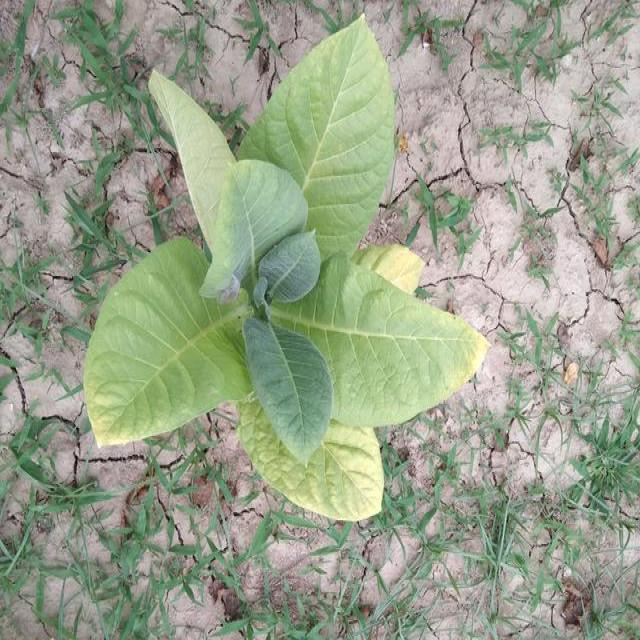crop: (72, 16, 493, 522)
